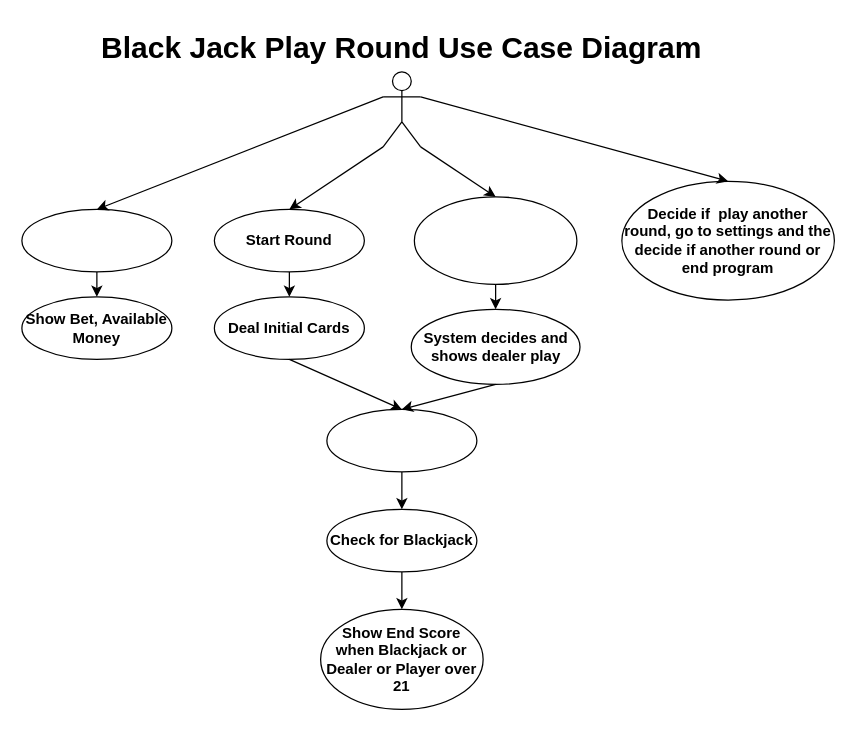
Image size: 856x731. Some labels were removed from this diagram. The centre of each missing label's shape, as x and y in pixels:
"Player chooses Action from available Actions" goes at point 495,240.
"Select bet for this round" goes at point 96,240.
"Show Current Card Count (1-21)" goes at point 401,440.
"Spieler" goes at point 401,109.
